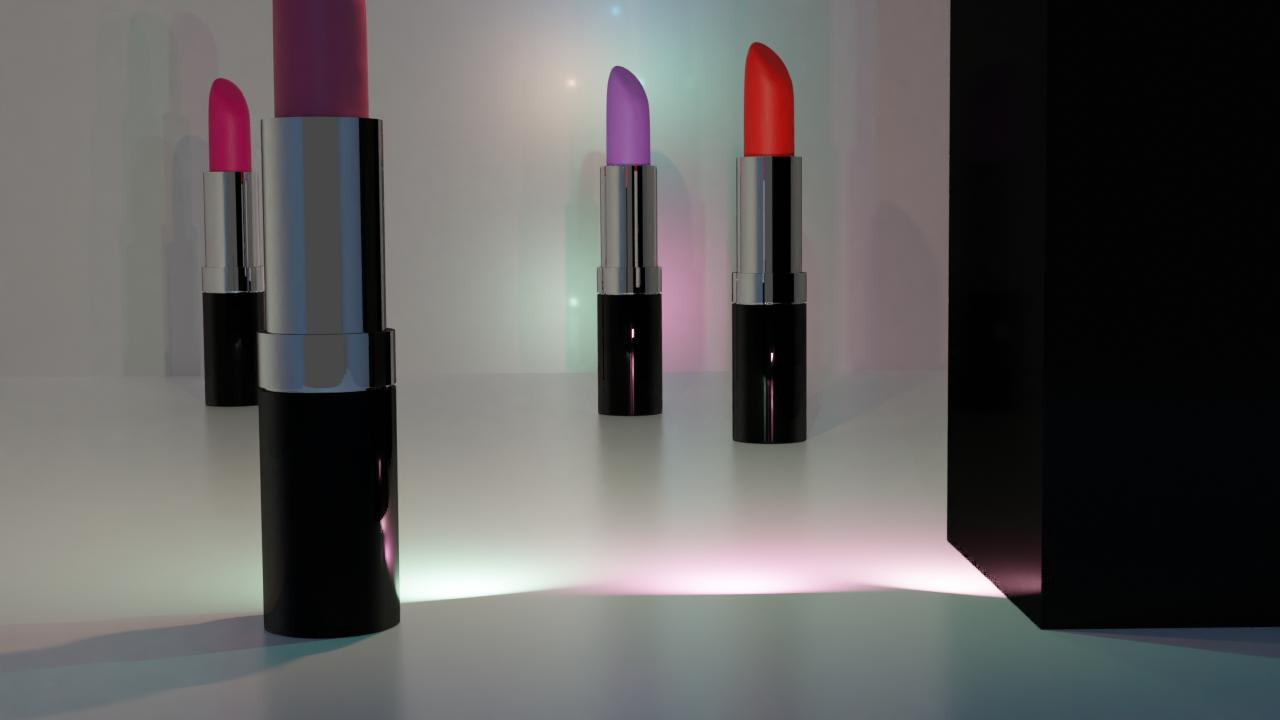CLASSIFIER_NAME: (253, 0, 403, 649), (731, 37, 808, 444), (596, 61, 663, 416), (200, 74, 269, 407)
